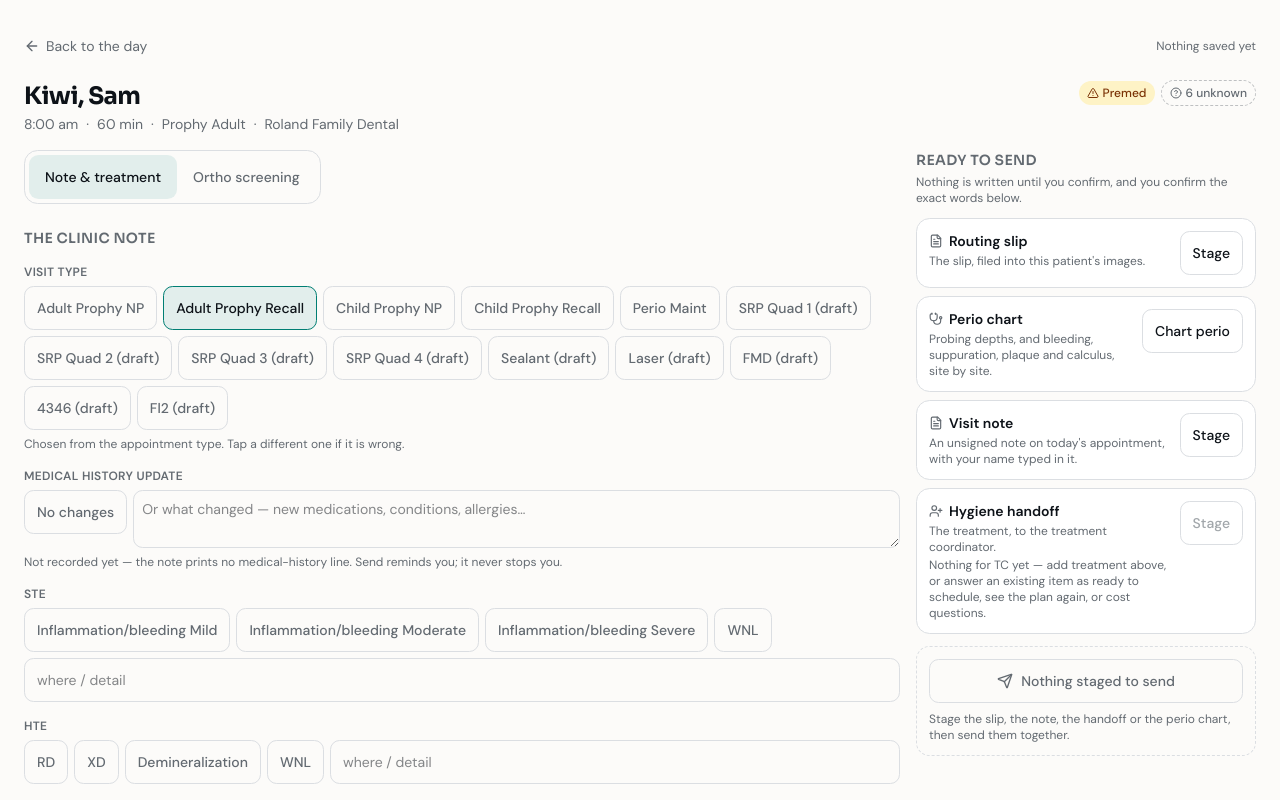
Test case: the server owns the visit › renders a staged write's state and preview from the server, never its own
Click the button with test id "hyg-stage-router". click: (1211, 253)
box: [1180,231,1243,275]
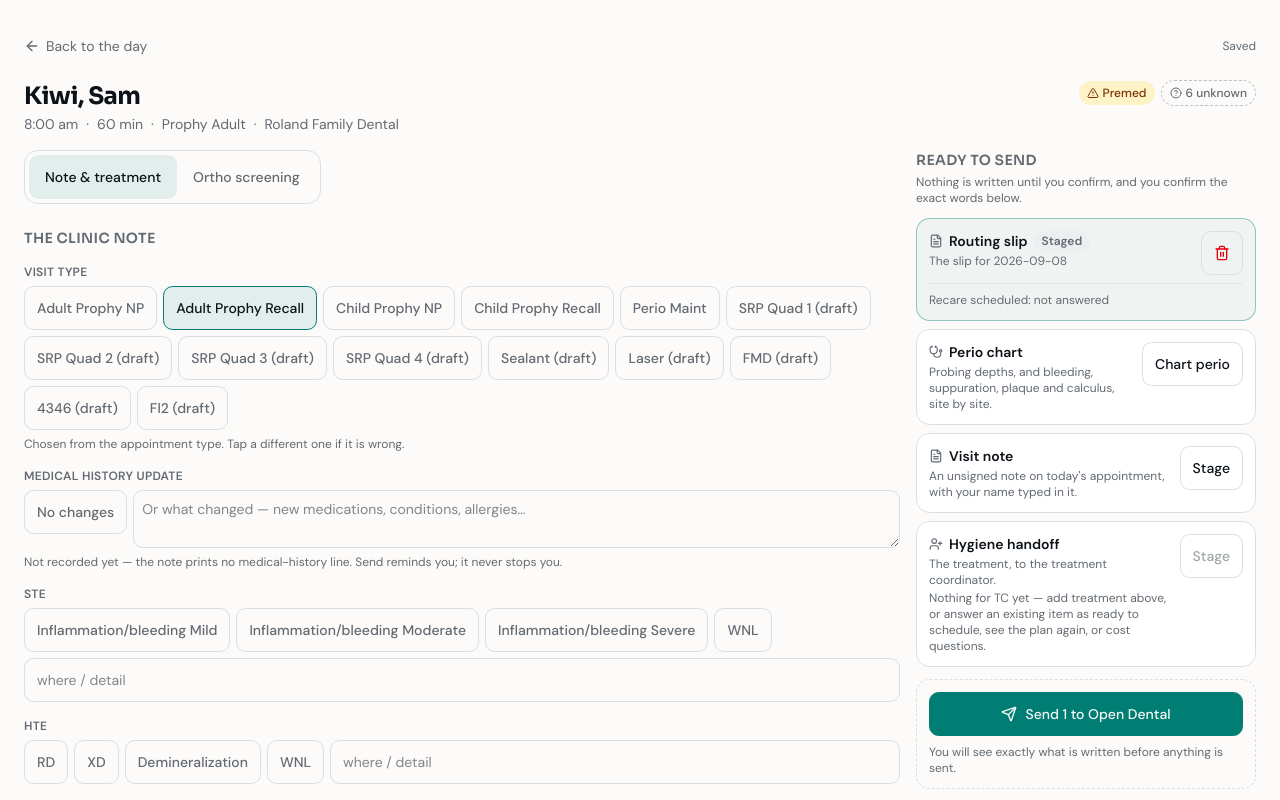
Expected: the text with test id "hyg-staged-state-Staged" reads "Staged", [1042,233,1082,249]
Now the list with test id "hyg-staged-preview-router" reads "Recare scheduled: not answered", box [929,292,1109,308]
